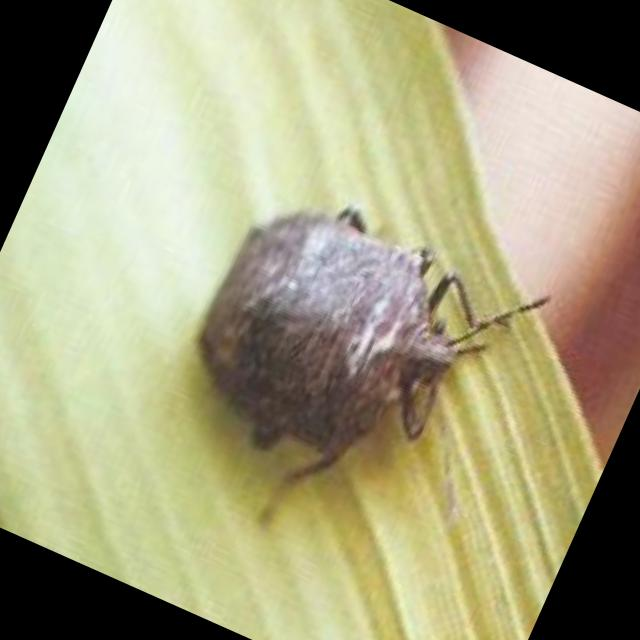rice-bug: (159, 169, 516, 517)
